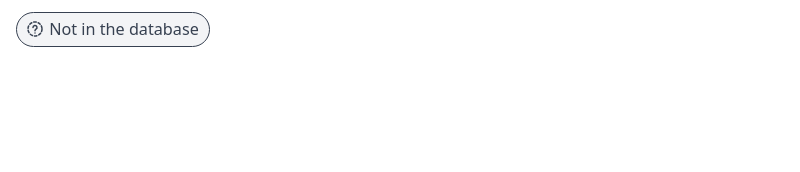
Scenario: a not-in-the-database badge explains that nothing was checked
Click the button "Not in the database" at (113,29), box [16, 12, 210, 47]
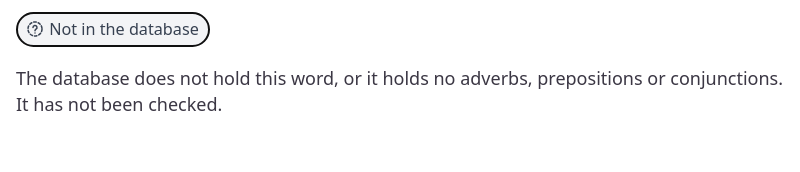
Check: the text "It has not been checked" is shown, box [16, 66, 783, 116]
